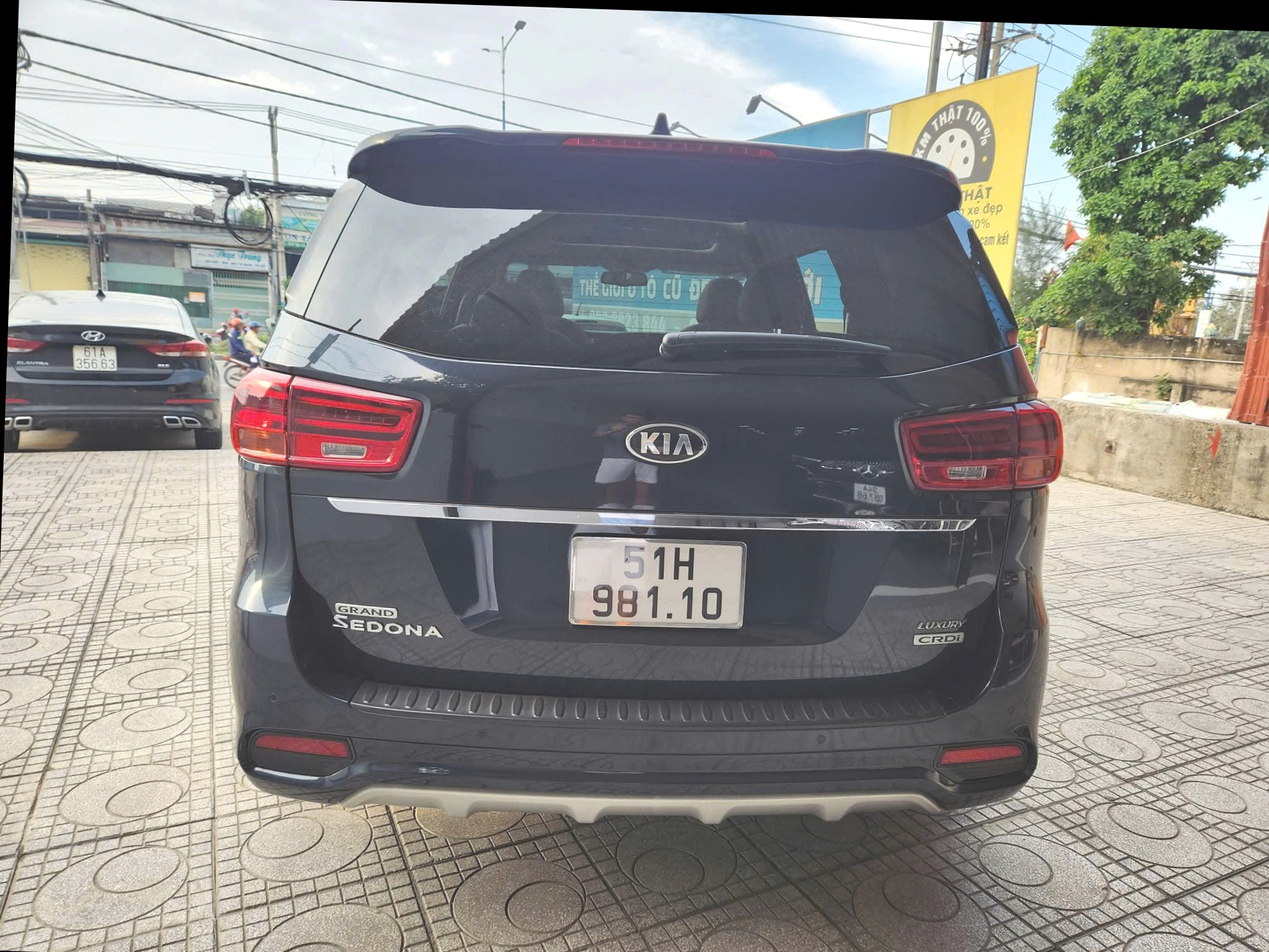Bien-so: (560, 508, 752, 602), (44, 343, 97, 376)
